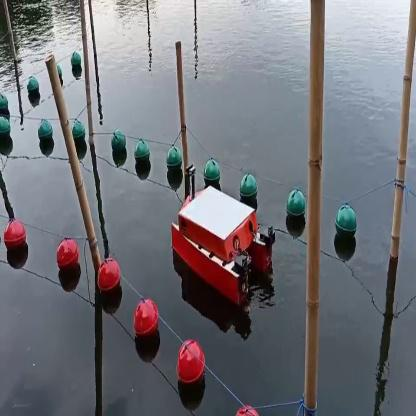green_buoy: (336, 204, 356, 243), (284, 188, 303, 223), (110, 127, 128, 160), (134, 140, 148, 174), (166, 146, 181, 176), (240, 172, 256, 200), (203, 158, 219, 182), (73, 121, 87, 148), (0, 112, 10, 145), (40, 118, 52, 142), (26, 78, 38, 101), (72, 56, 80, 76), (0, 94, 6, 111)
red_buoy: (177, 340, 205, 386), (3, 221, 26, 262), (136, 297, 158, 335), (57, 239, 76, 278), (99, 261, 118, 300)
